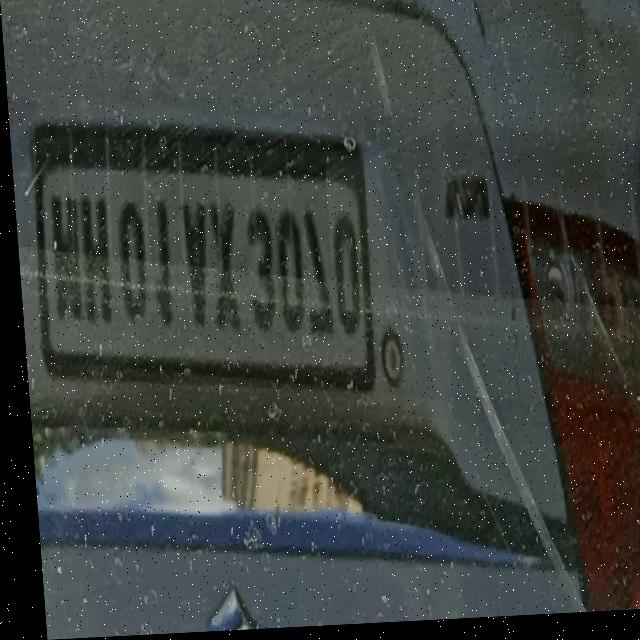plate: (25, 140, 370, 408)
